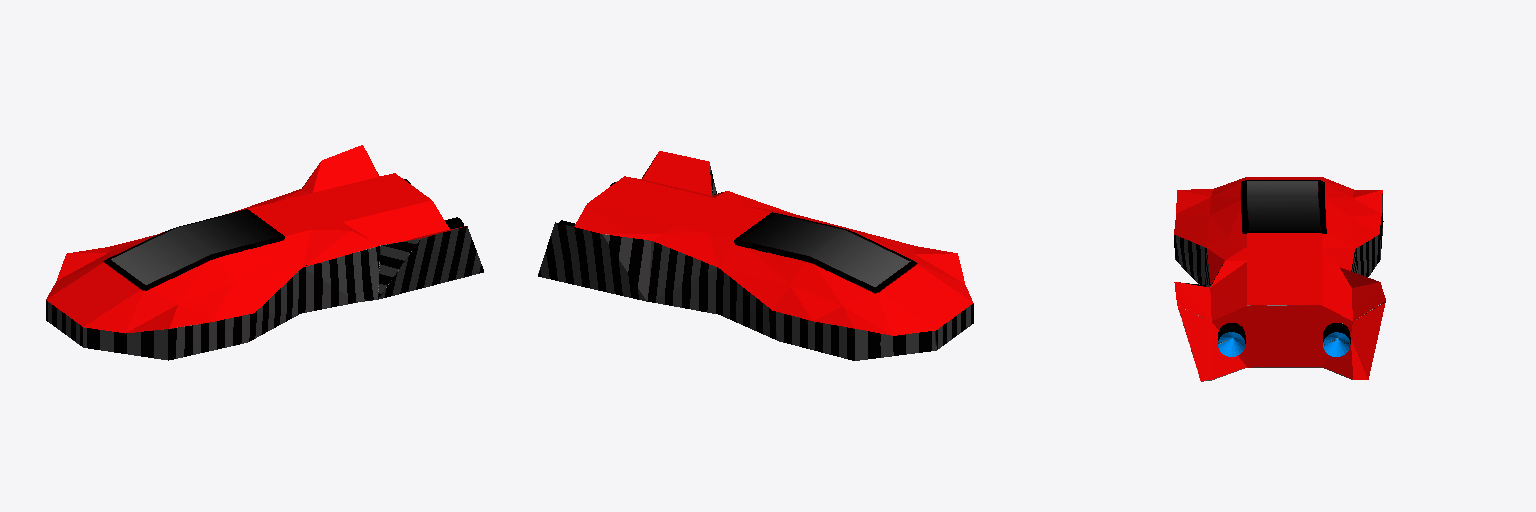
3 renders of one model, left to right at view 1: azimuth 30°, elevation 25°; view 2: azimuth 150°, elevation 25°; view 3: azimuth 270°, elevation 25°, orthographic.
Parts seen in each view (by area): view 1: pCylinder2; view 2: pCylinder2; view 3: pCylinder2.
Boxes of the visible parts, x1=… form: pCylinder2: x1=46, y1=145, x2=483, y2=360; pCylinder2: x1=538, y1=151, x2=973, y2=360; pCylinder2: x1=1174, y1=177, x2=1385, y2=381.
Bounding box in the file's own units: 13.95 × 2.36 × 6.78.
1 materials, 1 textured.